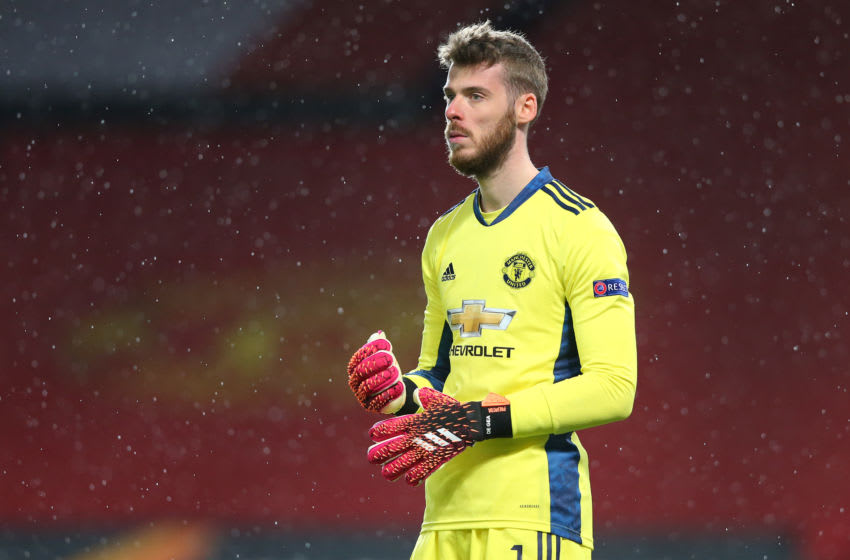NoMask: (444, 81, 502, 172)
